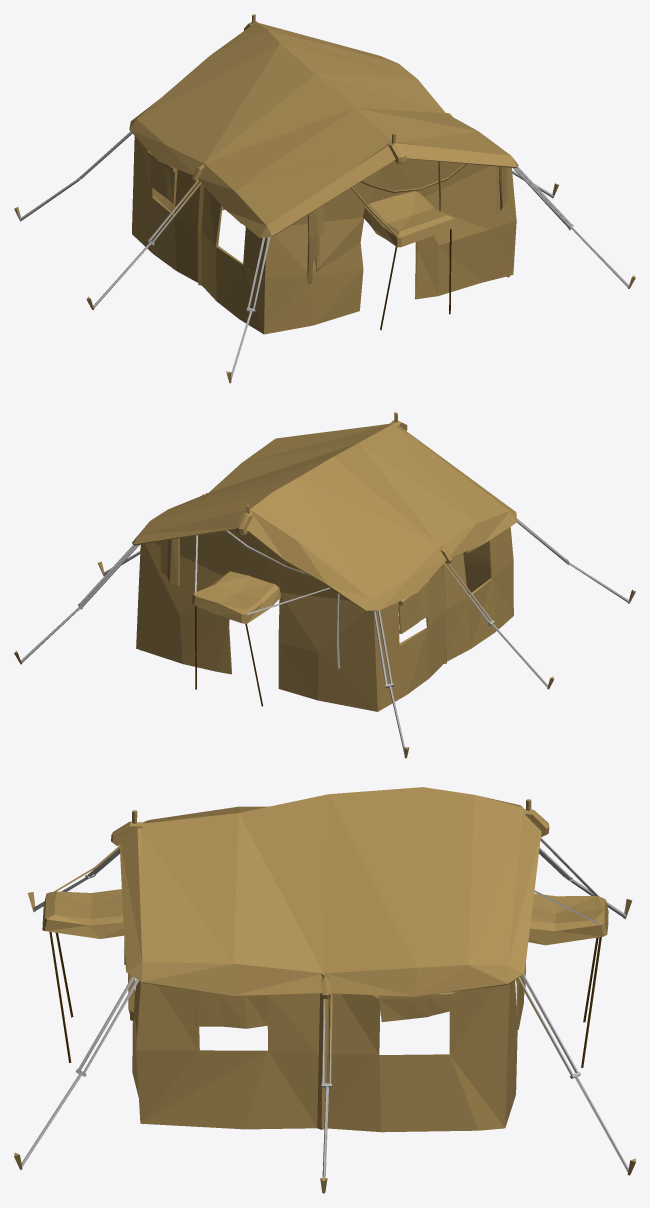
Rendered from tent_small.fbx.
The picture shows the model from 3 angles, top to bottom: view 1: azimuth 30°, elevation 25°; view 2: azimuth 150°, elevation 25°; view 3: azimuth 270°, elevation 25°; orthographic projection. The views are drawn at different scales.
Parts seen in each view (by area): view 1: Tent_Small; view 2: Tent_Small; view 3: Tent_Small.
Boxes of the visible parts, x1,y1,x2,y2 form: Tent_Small: (14,14,635,383); Tent_Small: (14,412,635,758); Tent_Small: (14,787,635,1193).
Bounding box in the file's own units: 991 × 380 × 840.
